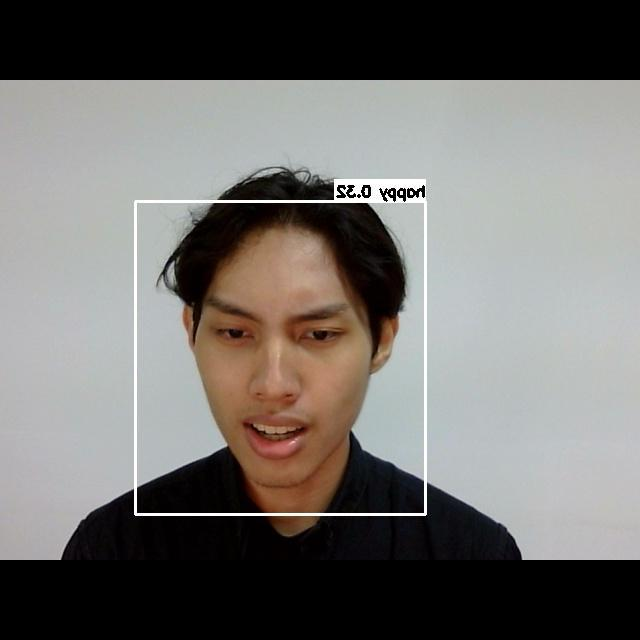Angry: (187, 281, 374, 461)
